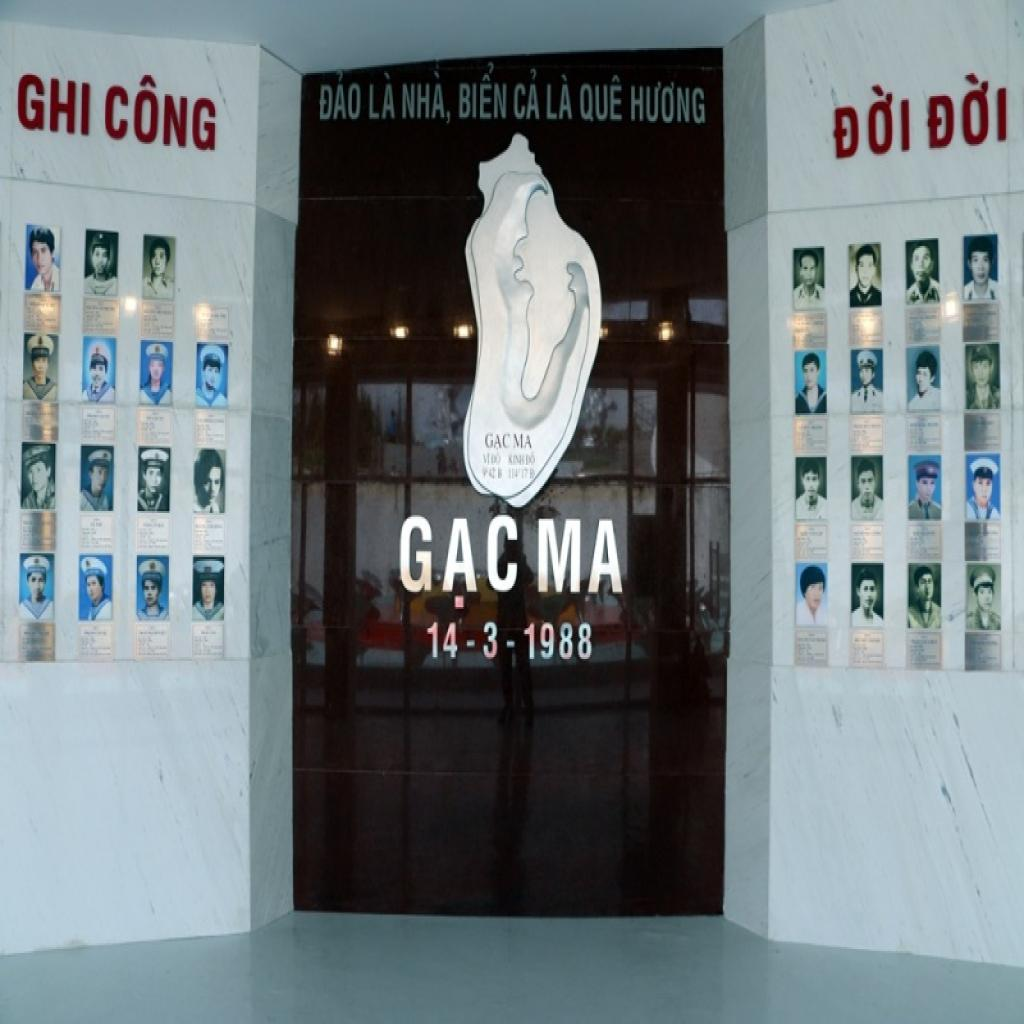text: (398, 513, 521, 611), (102, 67, 219, 158), (426, 618, 595, 664), (924, 65, 1010, 154), (536, 515, 626, 597), (830, 81, 912, 163), (16, 69, 94, 140), (629, 78, 709, 128), (400, 67, 454, 129), (458, 60, 510, 123), (318, 67, 362, 125), (578, 71, 624, 125), (512, 65, 543, 125), (367, 71, 398, 123), (545, 71, 576, 123), (484, 430, 513, 454), (512, 432, 535, 452)
